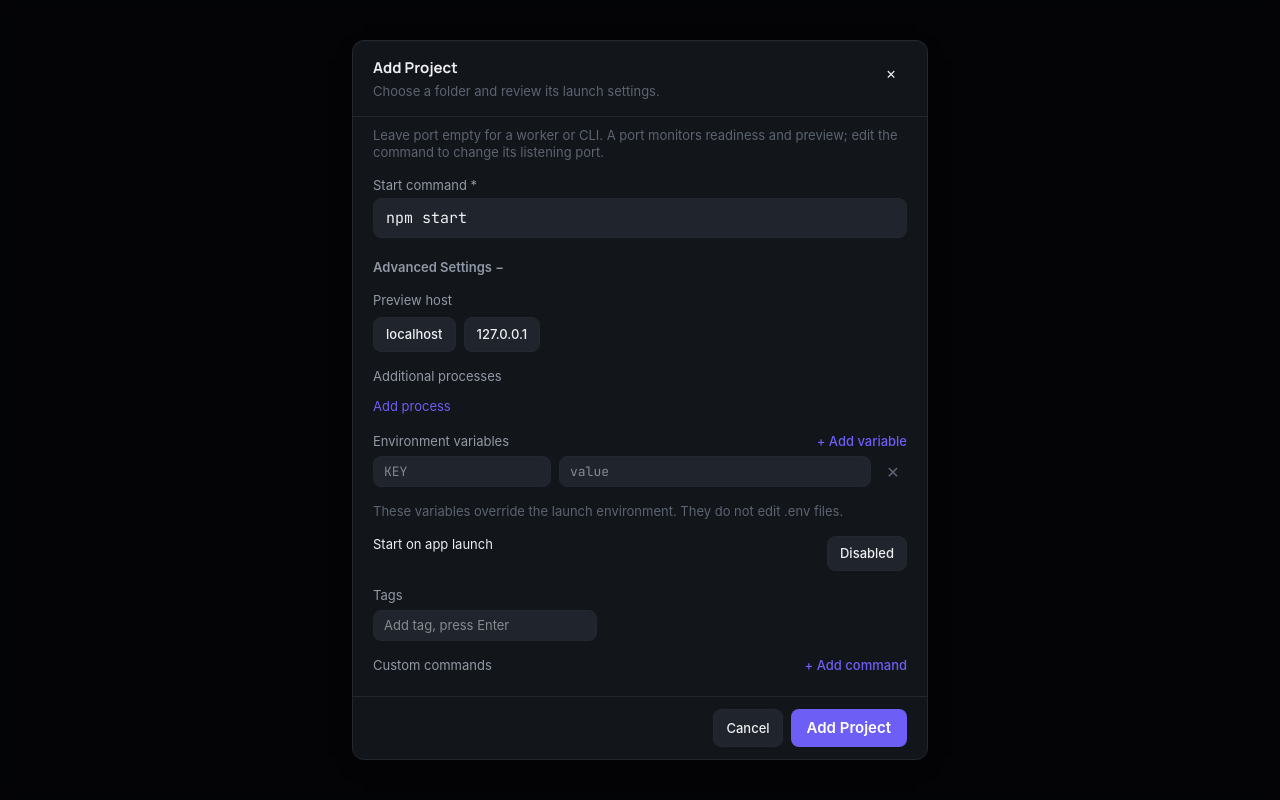
Test: AP06 invalid env and custom rows receive inline errors before IPC
The image size is (1280, 800).
Earlier steps of the test are not shown.
(page scrolled)
Type "BAD KEY" into the field named "Variable 1 name" at (462, 472), box [373, 456, 551, 487]
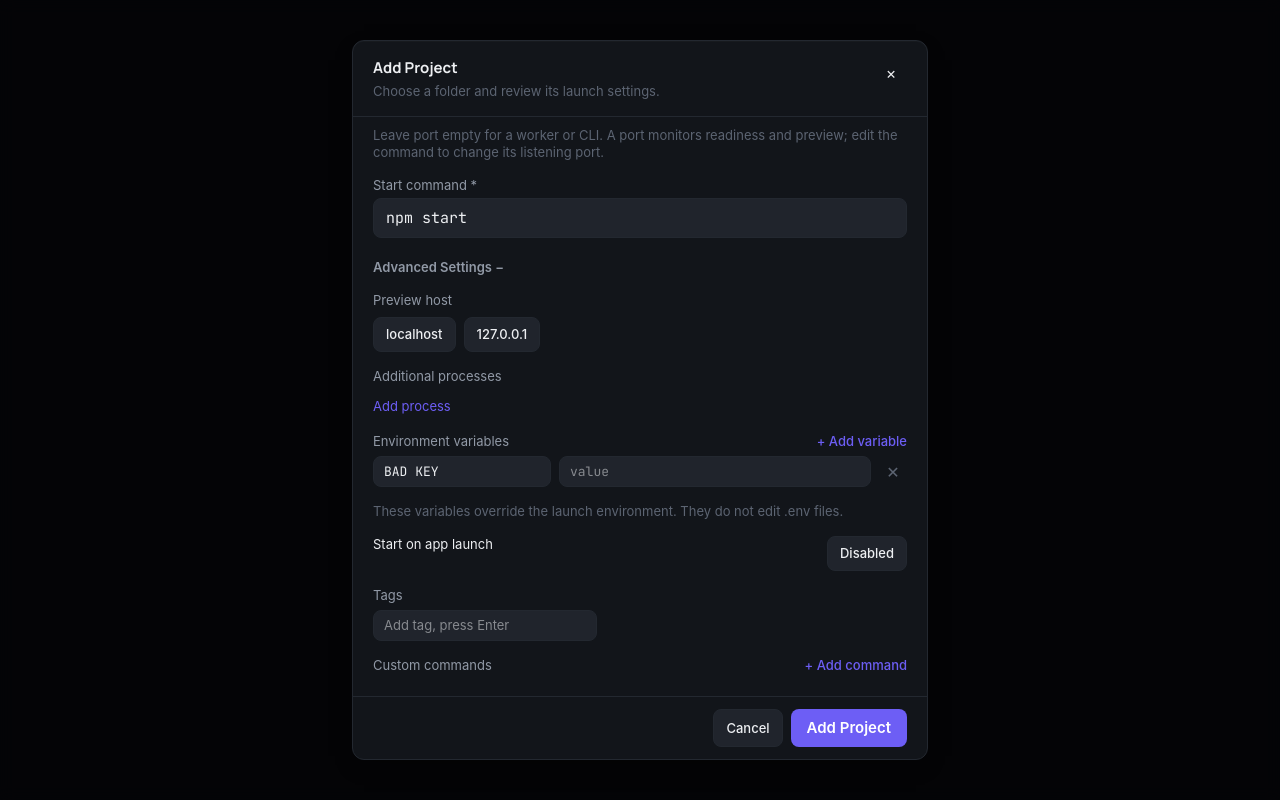
Click the button "Add Project" at (849, 728), box [790, 709, 907, 747]
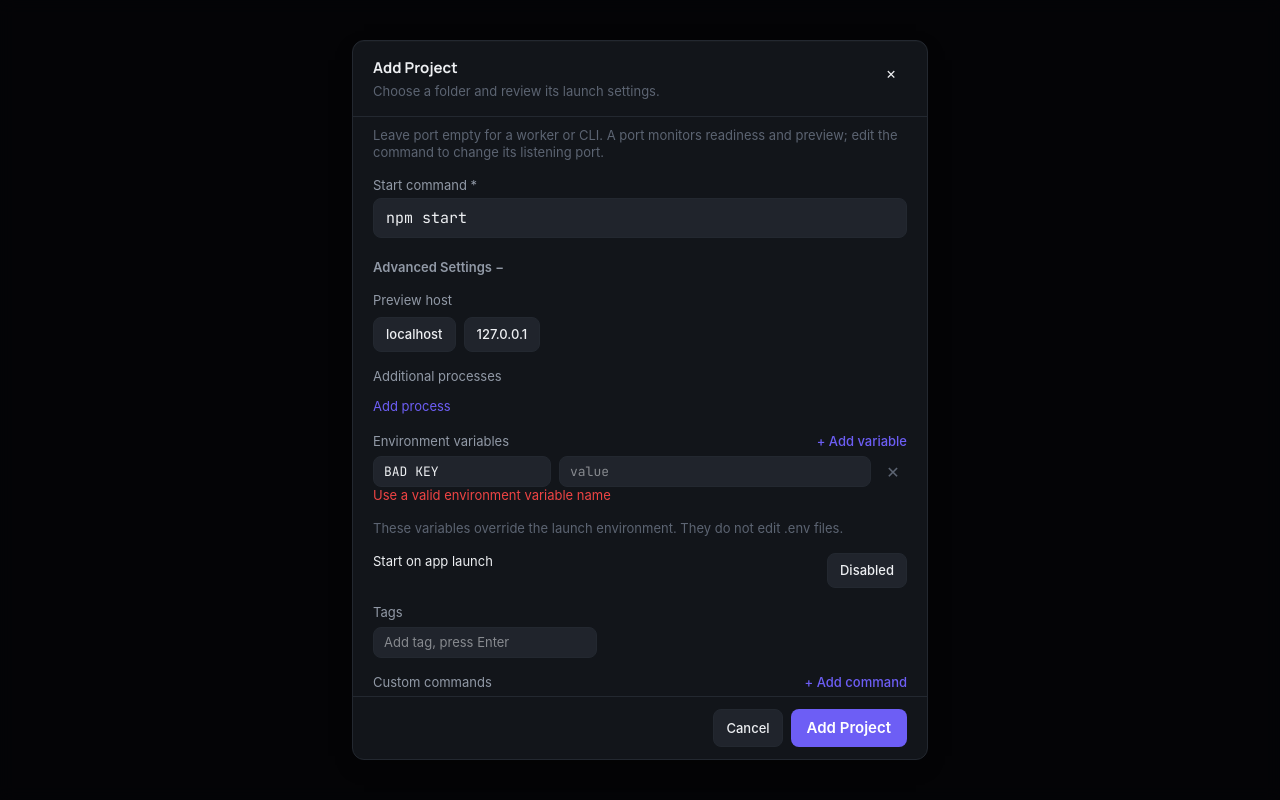
Replace the text in the field named "Variable 1 name" with "GOOD_KEY" at (462, 472), box [373, 456, 551, 487]
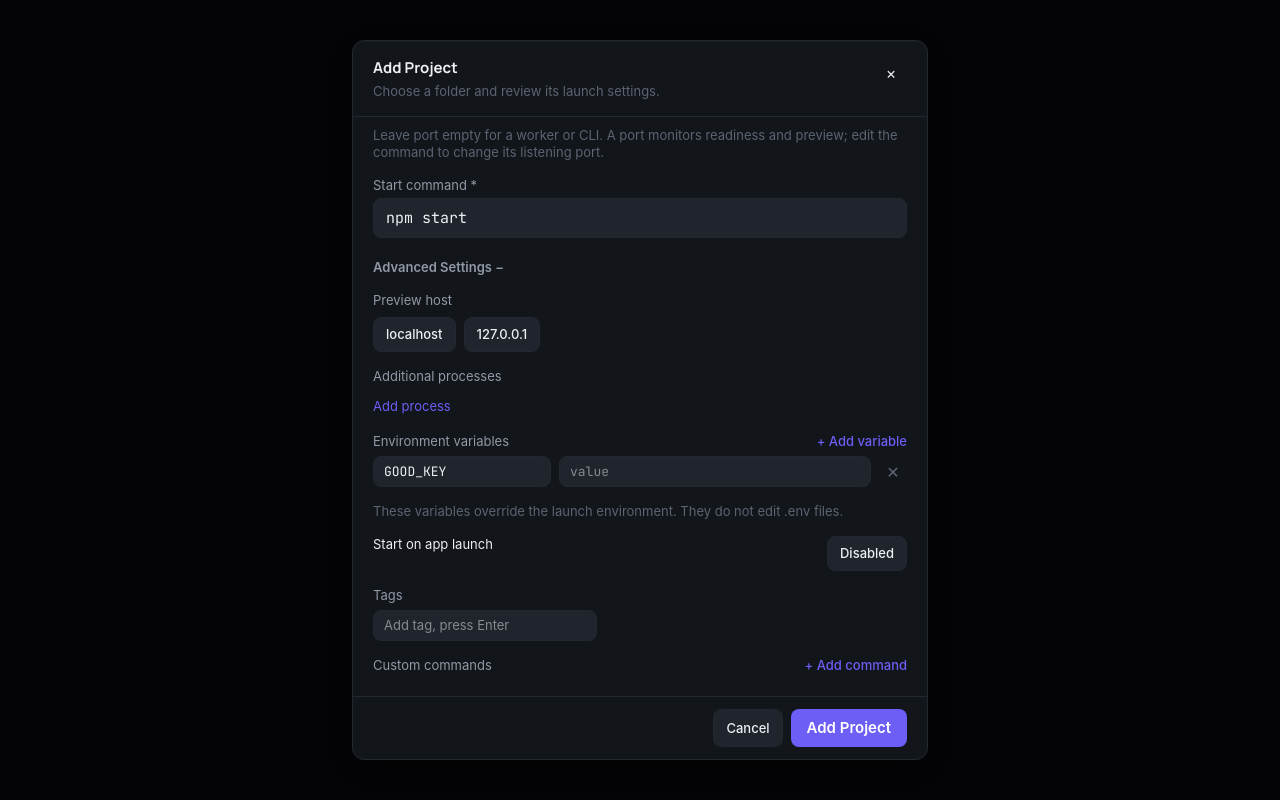
expect the message "Use a valid environment variable name" is gone: met
